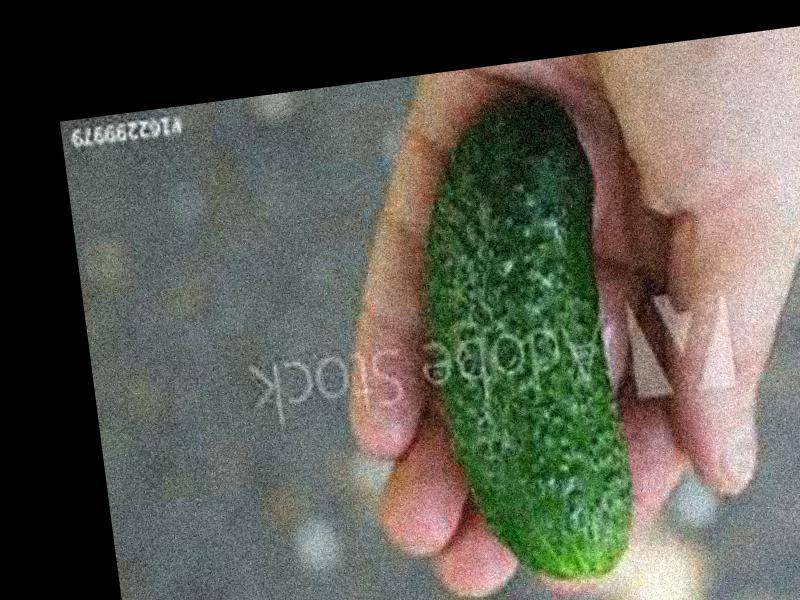Cucumber: (395, 90, 642, 592)
